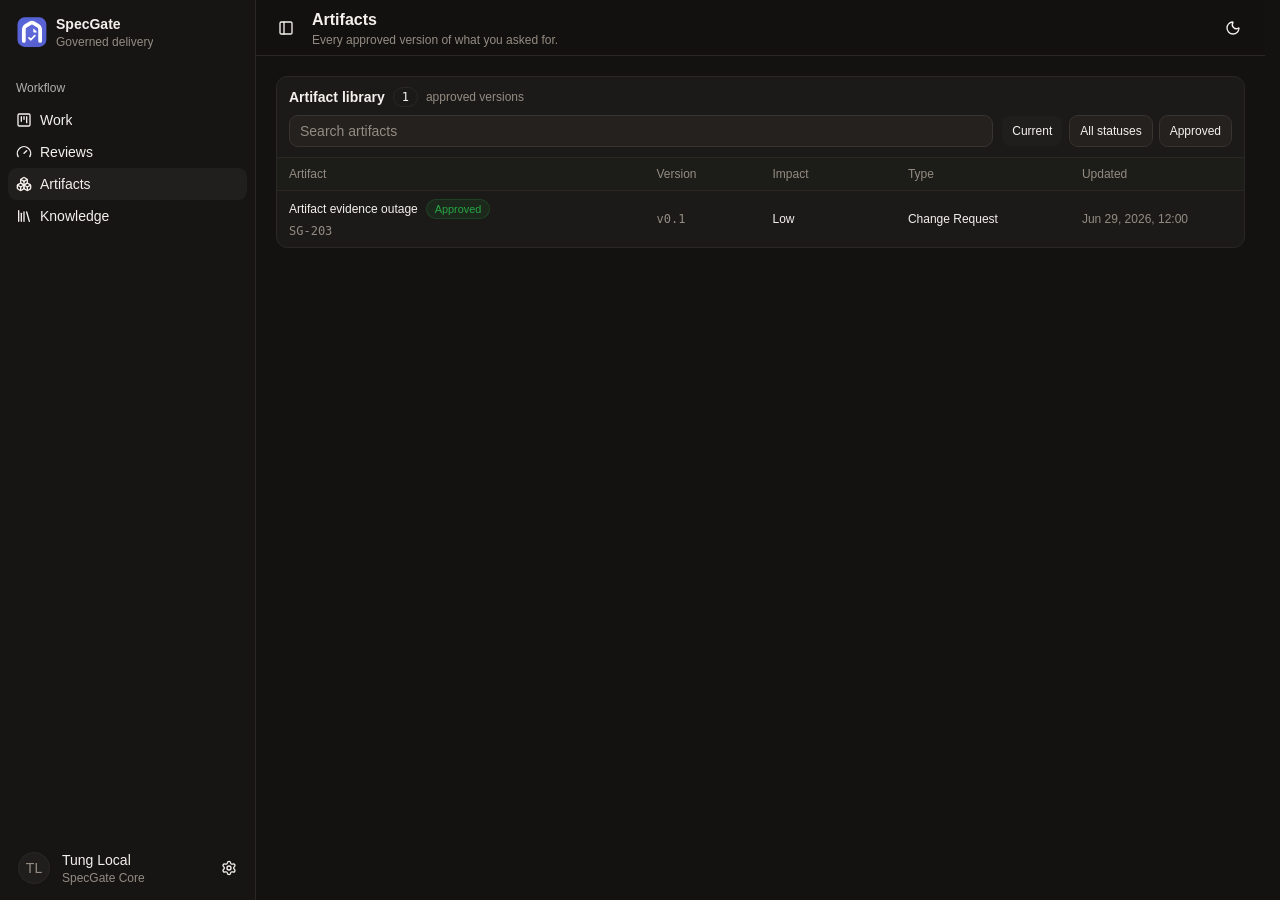
Test: SpecGate UI shell: artifact evidence › shows live no-fallback errors for artifact detail evidence sections
expect the text "Artifact evidence outage" is shown: met, box [289,201,418,217]
Click the button "Artifact evidence outage Approved SG-203" at (390,219), box [289,199,490,239]
(page scrolled)
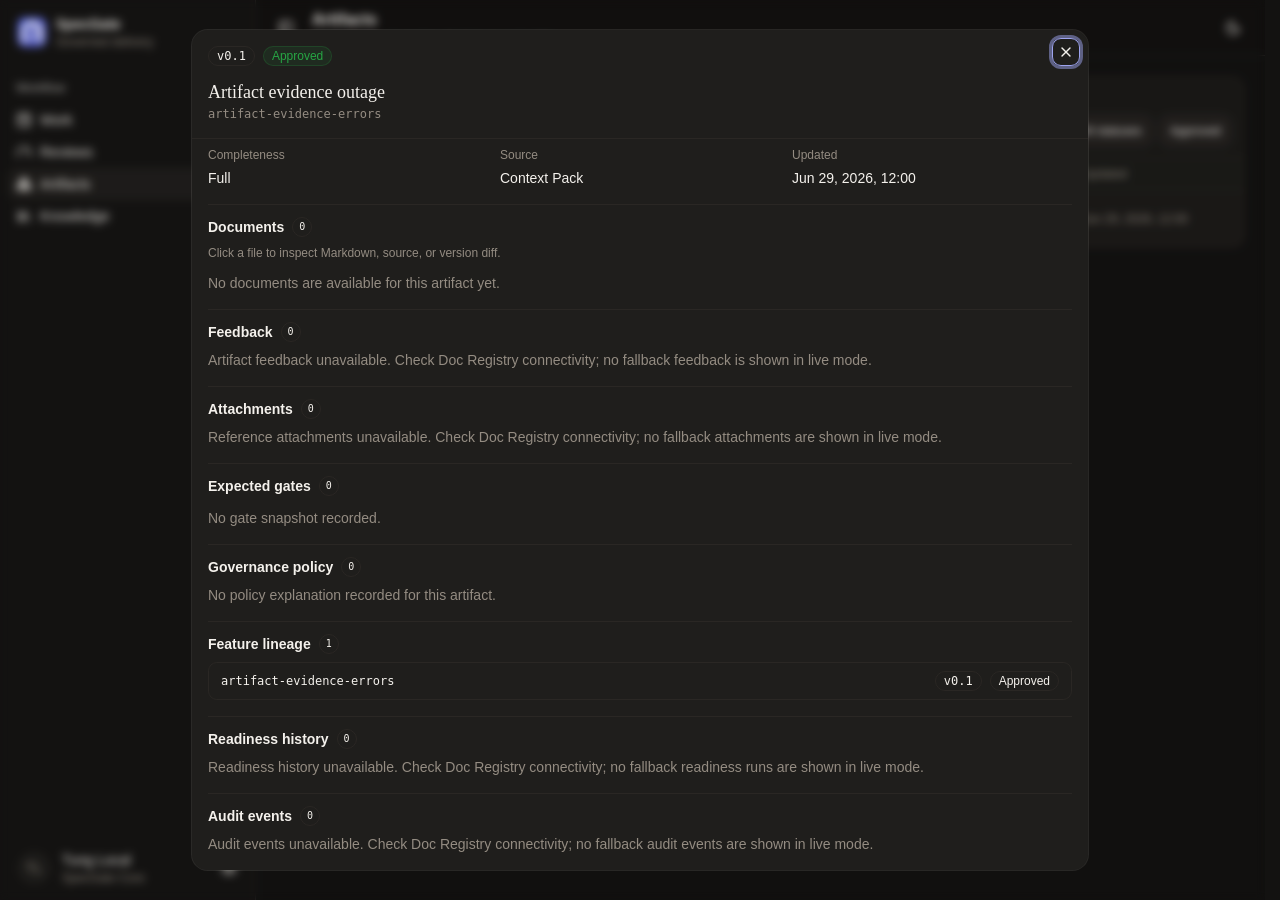
expect the text "Reference attachments unavailable" is shown: met, box [208,429,942,445]
expect the text "Artifact feedback unavailable" is shown: met, box [208,352,872,368]
expect the text "Readiness history unavailable" is shown: met, box [208,759,924,775]
